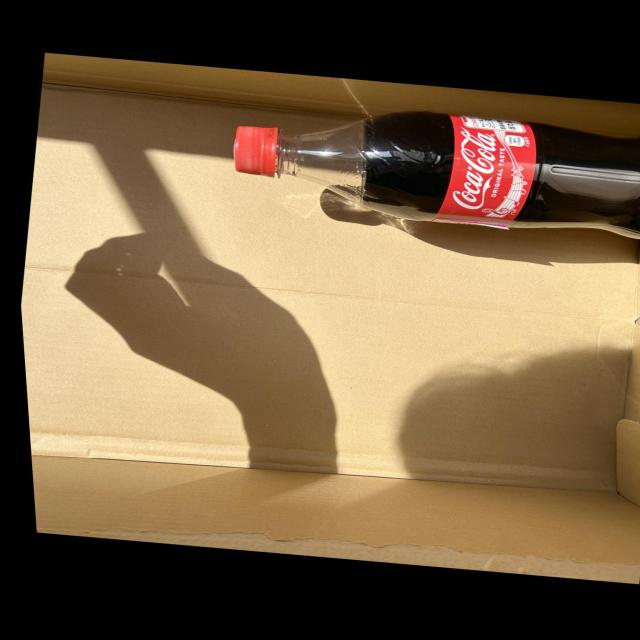high: (234, 111, 640, 239)
